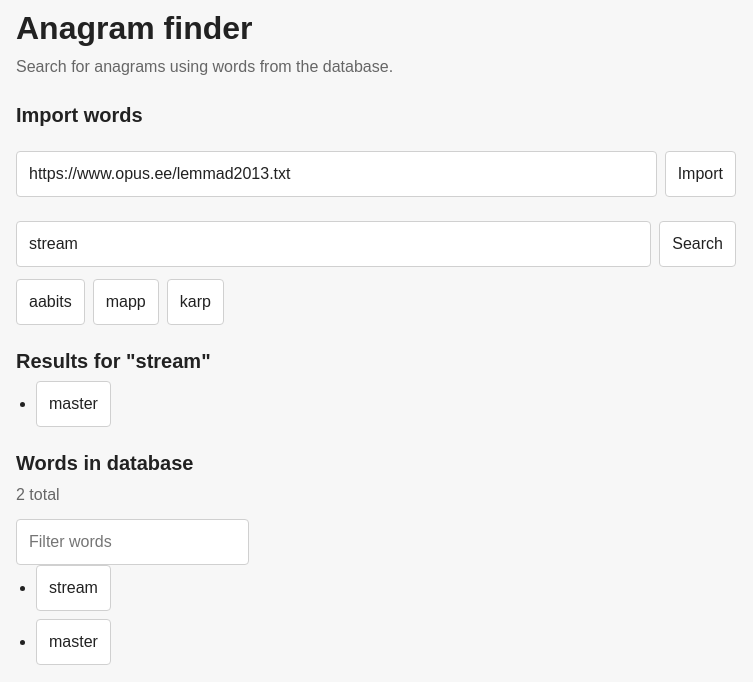
App › shows an error when search fails
Expected: the text "2 total" is shown, [16, 486, 60, 503]
Replace the text in the 2nd field with placeholder "Enter a word" with "plates". click: (334, 244)
box: [16, 221, 651, 267]
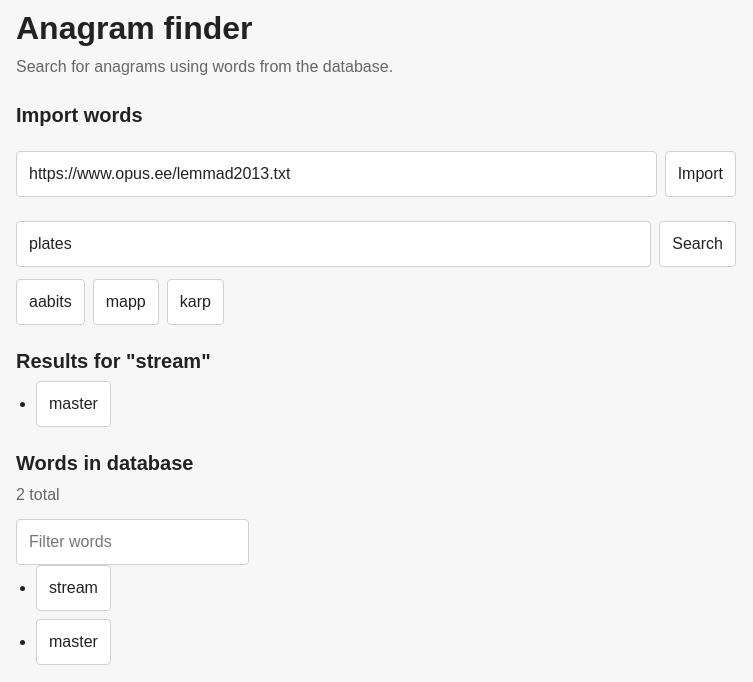
Click the button "Search". click: (698, 244)
box: [659, 221, 736, 267]
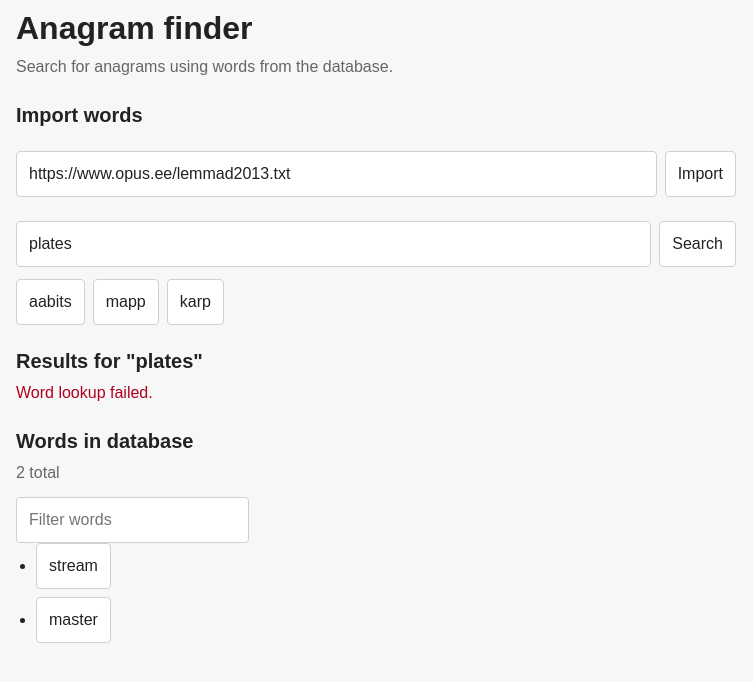
Result: the text "Word lookup failed." is shown at [16, 384, 153, 401]
